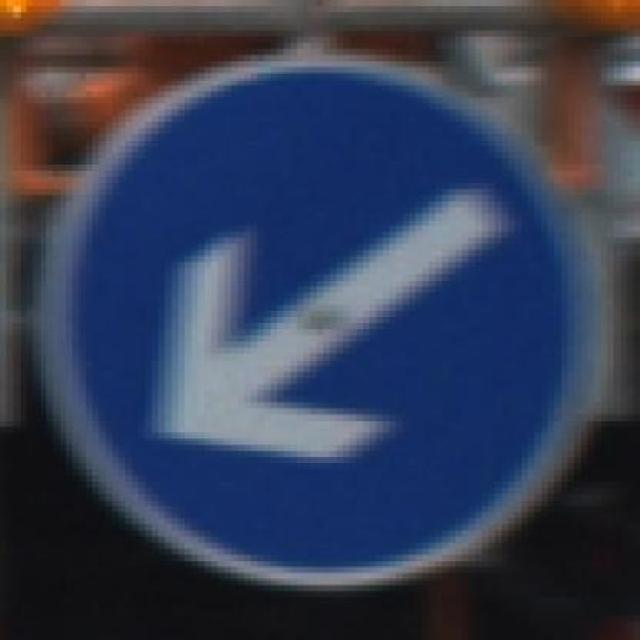Keep-Left: (26, 42, 614, 592)
